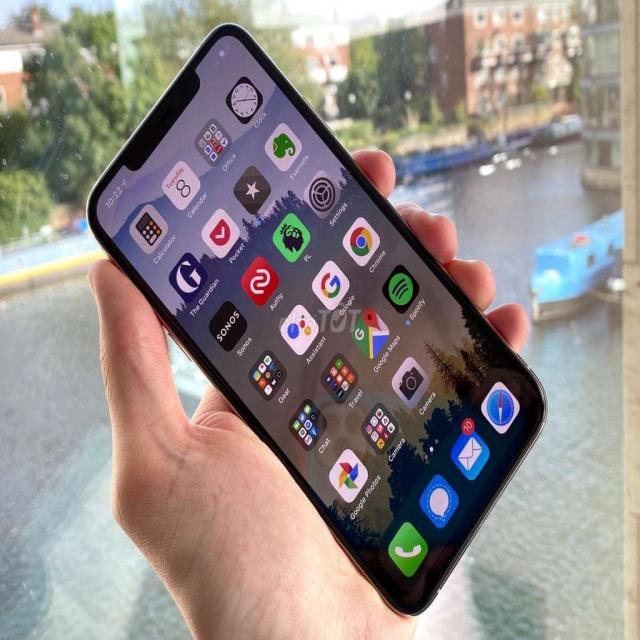gen_11: (88, 24, 546, 613)
